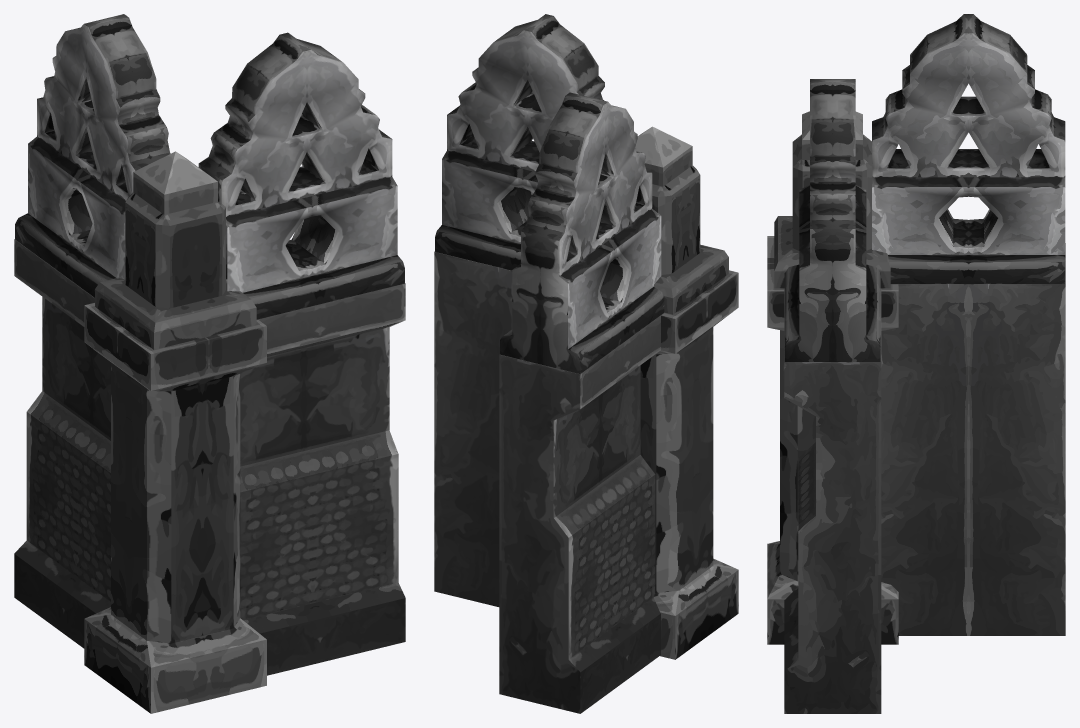
Rendered from VV-WalakuluBemma-9.fbx.
The picture shows the model from 3 angles, left to right: view 1: azimuth 30°, elevation 25°; view 2: azimuth 150°, elevation 25°; view 3: azimuth 270°, elevation 25°; orthographic projection. The views are drawn at different scales.
Parts seen in each view (by area): view 1: WalakuluBemmaBuild-9; view 2: WalakuluBemmaBuild-9; view 3: WalakuluBemmaBuild-9.
Part boxes in pixels (x1=…): WalakuluBemmaBuild-9: x1=14, y1=14, x2=405, y2=713; WalakuluBemmaBuild-9: x1=434, y1=14, x2=738, y2=713; WalakuluBemmaBuild-9: x1=767, y1=14, x2=1065, y2=713.
Size of the model in its own units: 1.54 by 3.37 by 1.54.
